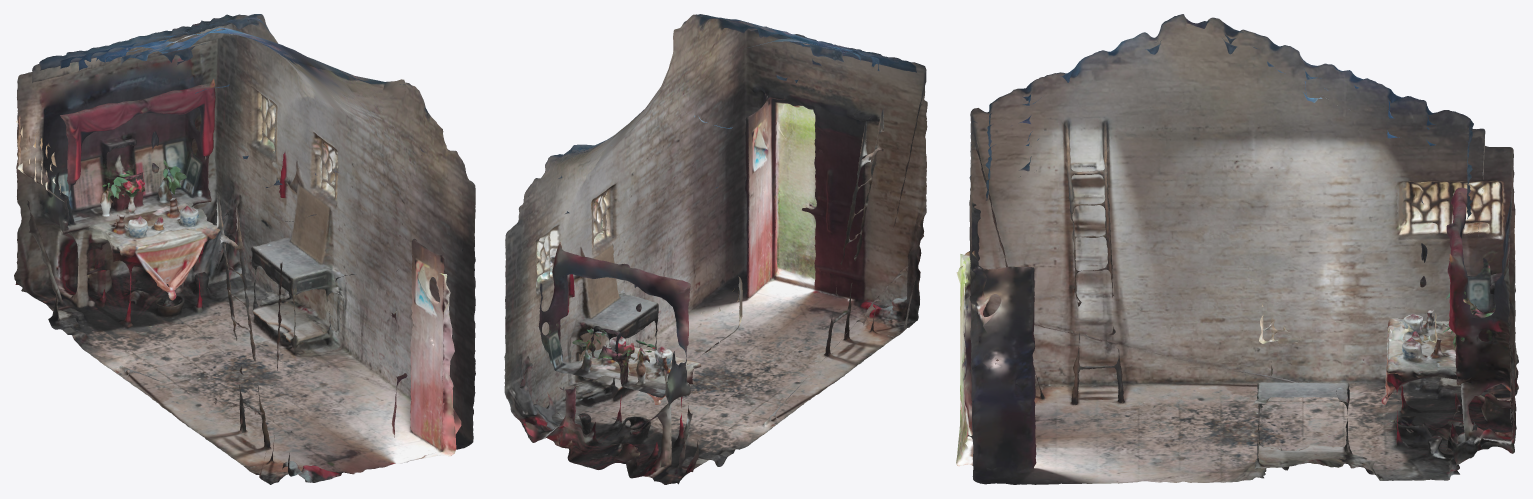
3 renders of one model, left to right at view 1: azimuth 30°, elevation 25°; view 2: azimuth 150°, elevation 25°; view 3: azimuth 270°, elevation 25°, orthographic. The views are drawn at different scales.
Visible parts, largest first — view 1: Object_3, Object_2, Object_4; view 2: Object_3, Object_2, Object_4; view 3: Object_2, Object_3, Object_4.
Part boxes in pixels (left/top/right/bottom): Object_3: left=52, top=27, right=475, bottom=484; Object_2: left=14, top=14, right=452, bottom=454; Object_4: left=15, top=14, right=475, bottom=478; Object_3: left=568, top=14, right=927, bottom=466; Object_2: left=504, top=35, right=923, bottom=484; Object_4: left=505, top=26, right=926, bottom=484; Object_2: left=956, top=19, right=1518, bottom=482; Object_3: left=957, top=39, right=1451, bottom=483; Object_4: left=957, top=14, right=1518, bottom=484.
Bounding box in the file's own units: 12.08 × 18.59 × 25.36.
1 material, 1 textured.
